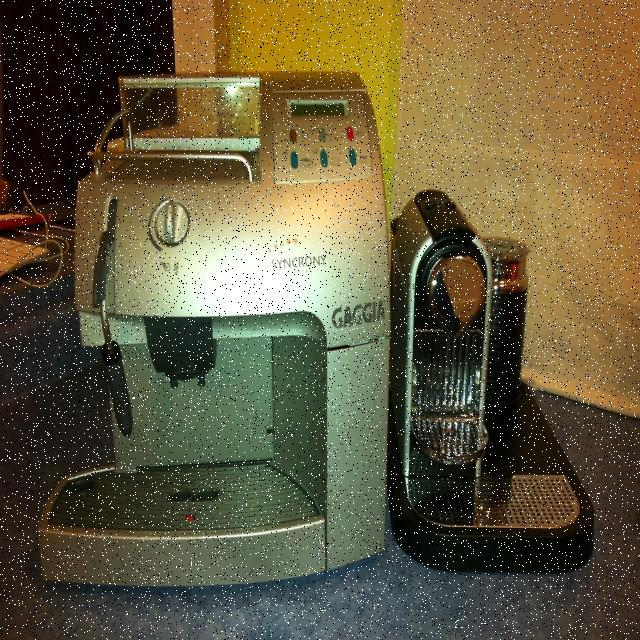Coffee-Machine: (24, 48, 400, 600)
